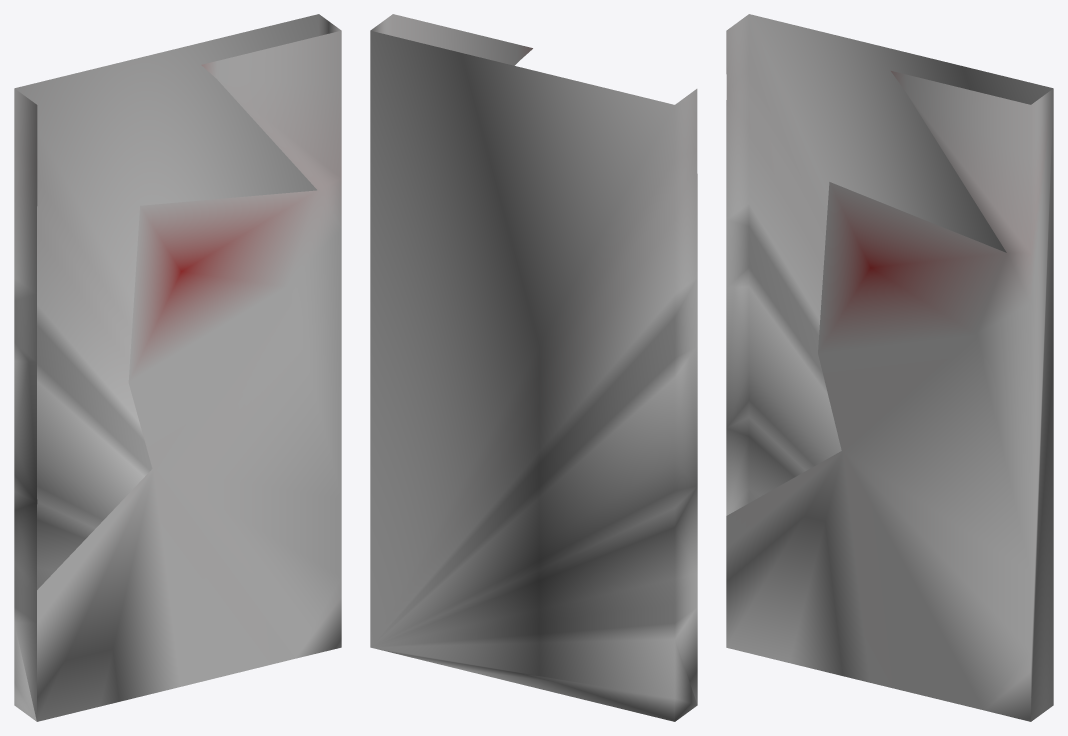
Rendered from SM_FA_Factory_W155_H300.fbx.
3 renders of one model, left to right at view 1: azimuth 30°, elevation 25°; view 2: azimuth 150°, elevation 25°; view 3: azimuth 330°, elevation 25°, orthographic.
Visible parts, largest first — view 1: SM_FA_Factory_W155_H300; view 2: SM_FA_Factory_W155_H300; view 3: SM_FA_Factory_W155_H300.
Part boxes in pixels (x1=…): SM_FA_Factory_W155_H300: x1=14, y1=14, x2=341, y2=721; SM_FA_Factory_W155_H300: x1=370, y1=14, x2=697, y2=721; SM_FA_Factory_W155_H300: x1=726, y1=14, x2=1053, y2=721.
Size of the model in its own units: 155 by 20 by 300.
